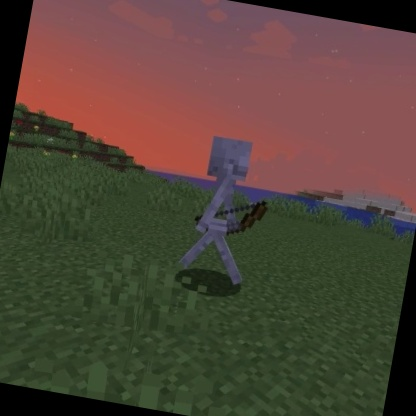skeleton: (172, 129, 283, 293)
